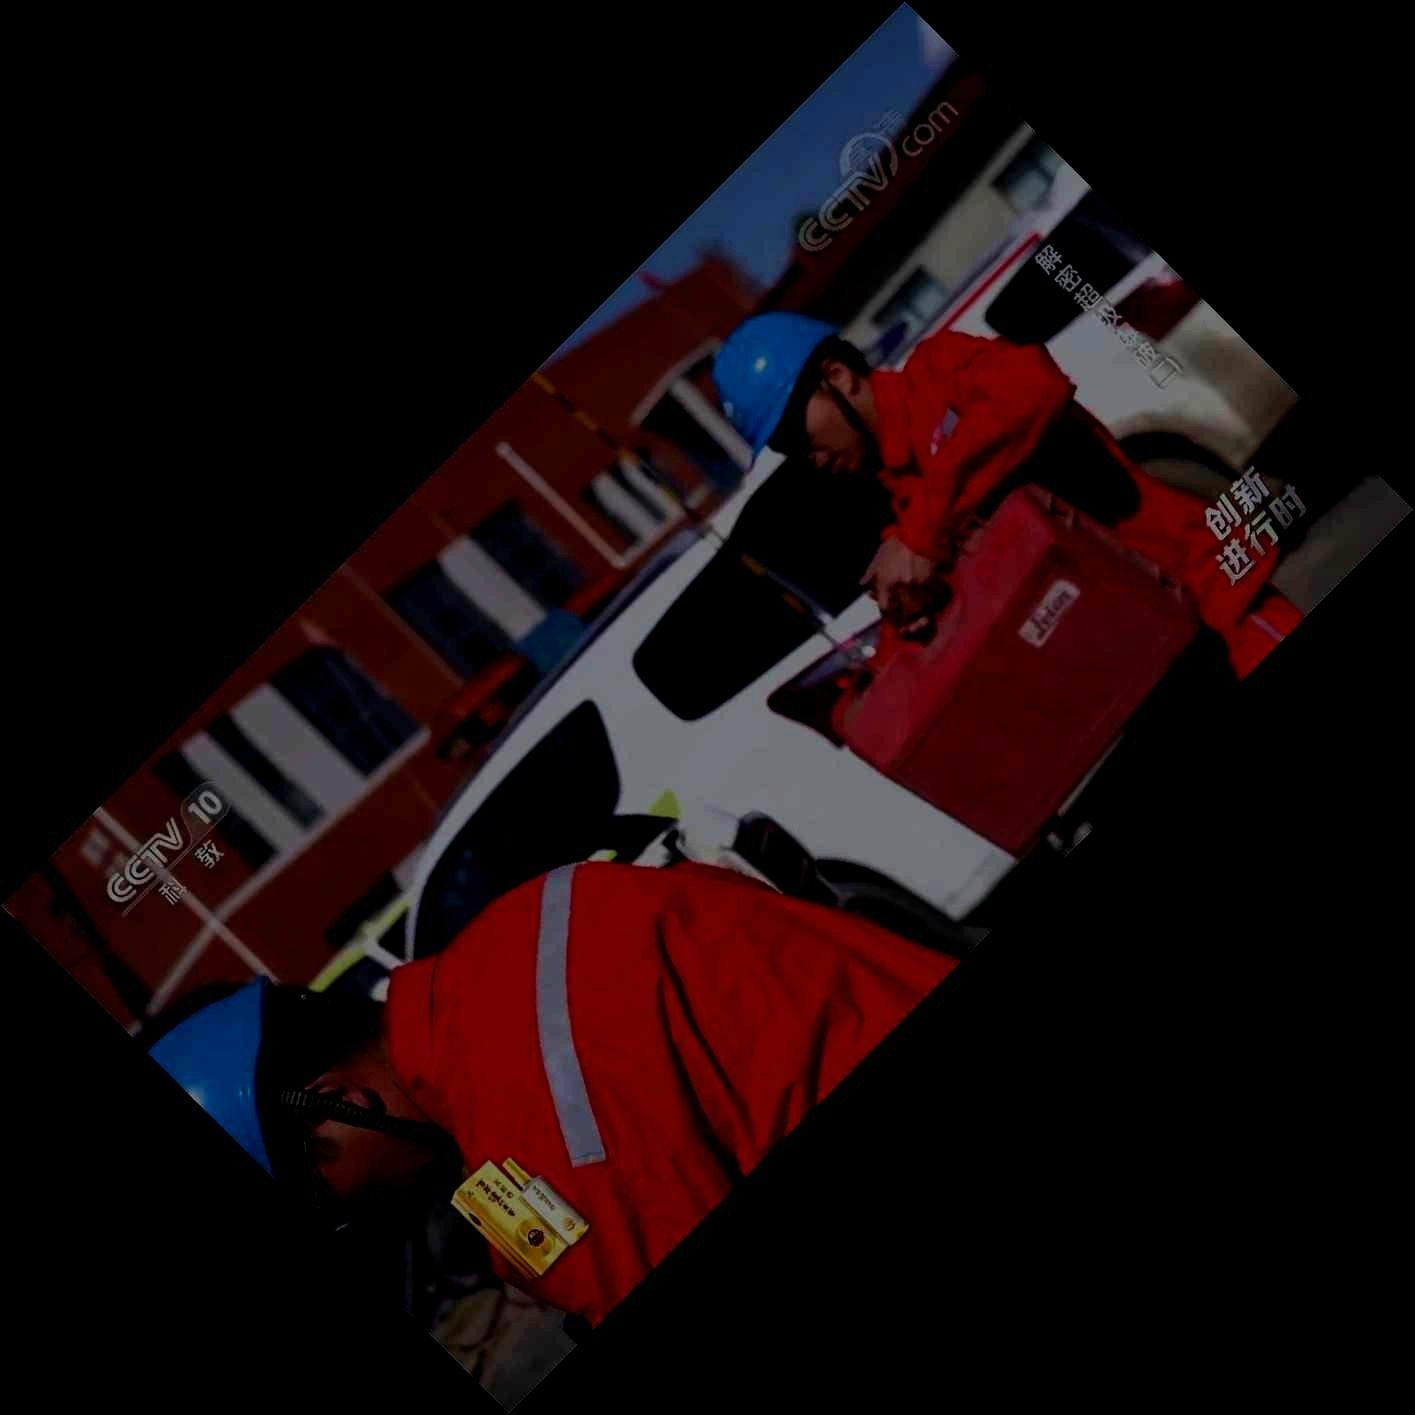helmet: (148, 973, 431, 1195), (710, 310, 873, 476)
